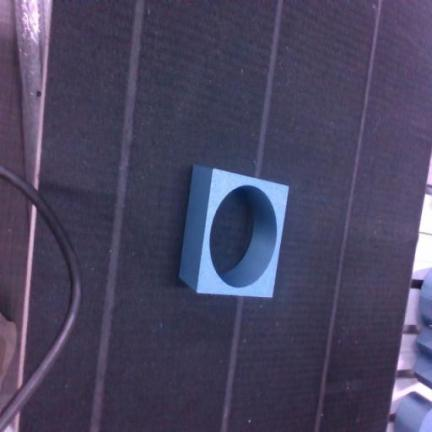hole: (180, 166, 288, 296)
